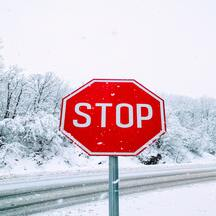Circle: (58, 77, 166, 156)
